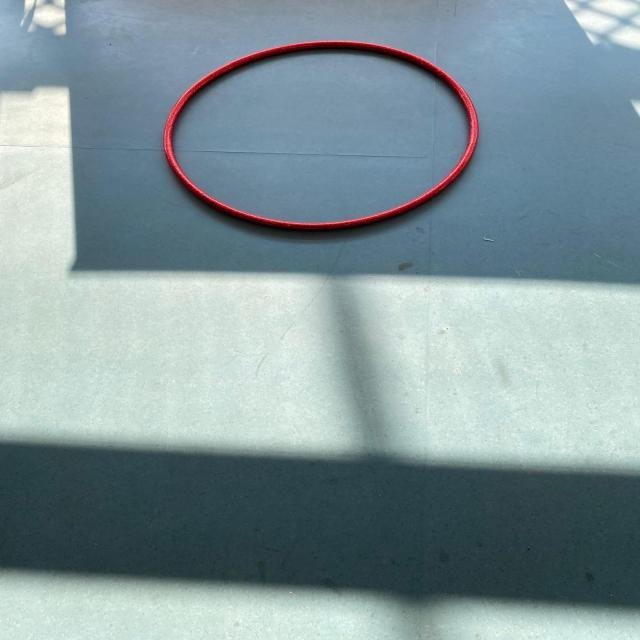Circle: (158, 32, 484, 240)
